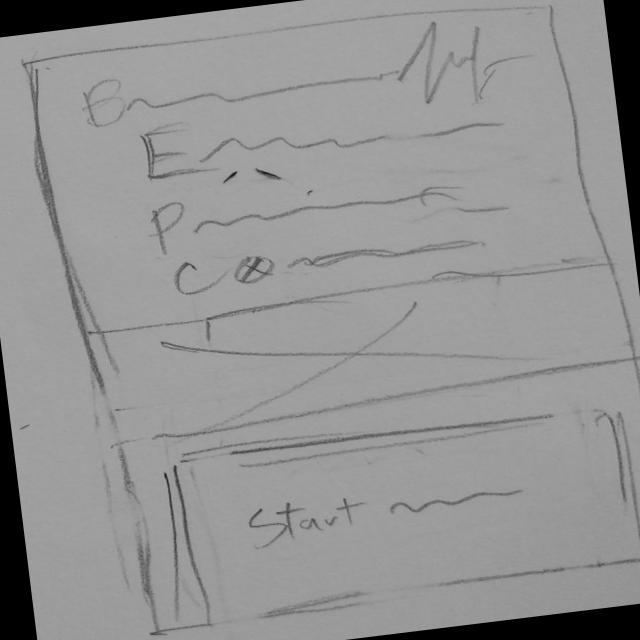container: (16, 0, 616, 340), (157, 395, 640, 621)
image: (75, 250, 640, 448)
label: (72, 24, 514, 136), (123, 79, 523, 193), (140, 162, 473, 261), (157, 214, 493, 307), (228, 486, 371, 555)
text: (386, 484, 534, 520)
